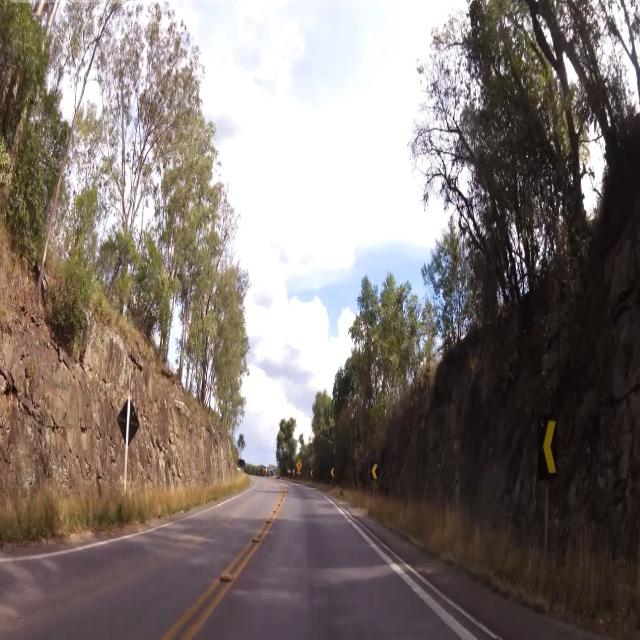Del: (538, 412, 561, 494)
